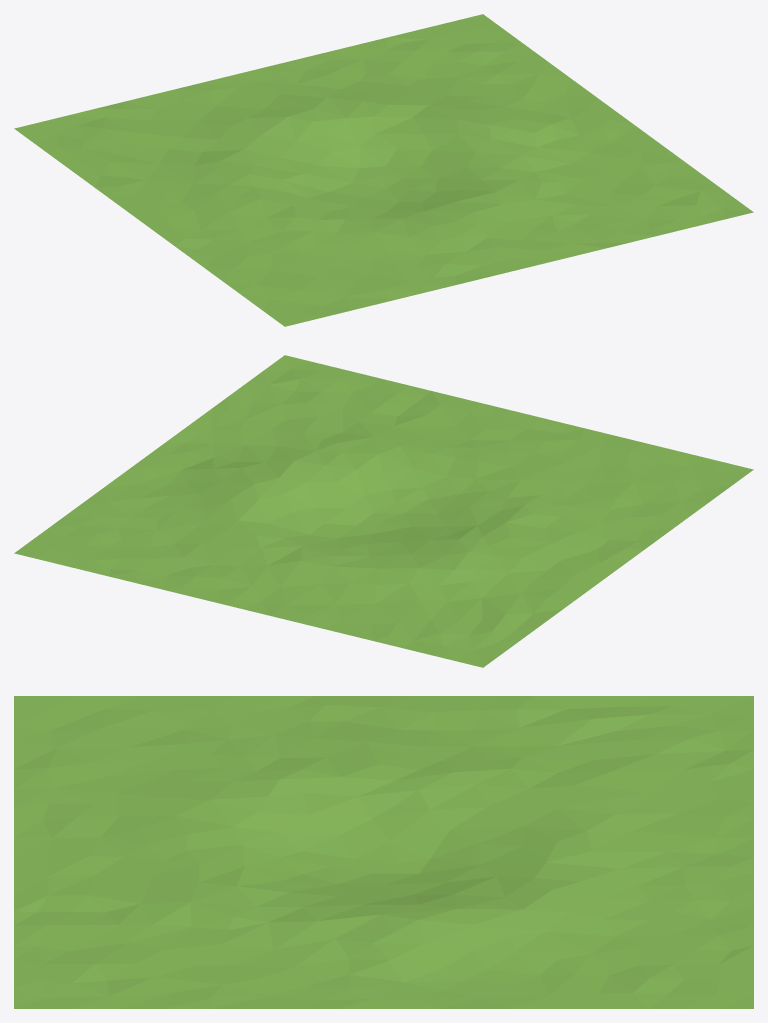
Rendered from MT_Terrain_M_b_03.fbx.
The picture shows the model from 3 angles, top to bottom: view 1: azimuth 30°, elevation 25°; view 2: azimuth 150°, elevation 25°; view 3: azimuth 270°, elevation 25°; orthographic projection. The views are drawn at different scales.
Visible parts, largest first — view 1: MT_Terrain_M_b_03; view 2: MT_Terrain_M_b_03; view 3: MT_Terrain_M_b_03.
Part boxes in pixels (x1,y1,x2,y2): MT_Terrain_M_b_03: [14, 14, 753, 326]; MT_Terrain_M_b_03: [14, 355, 753, 667]; MT_Terrain_M_b_03: [14, 696, 753, 1008].
Bounding box in the file's own units: 5000 × 167 × 5000.
